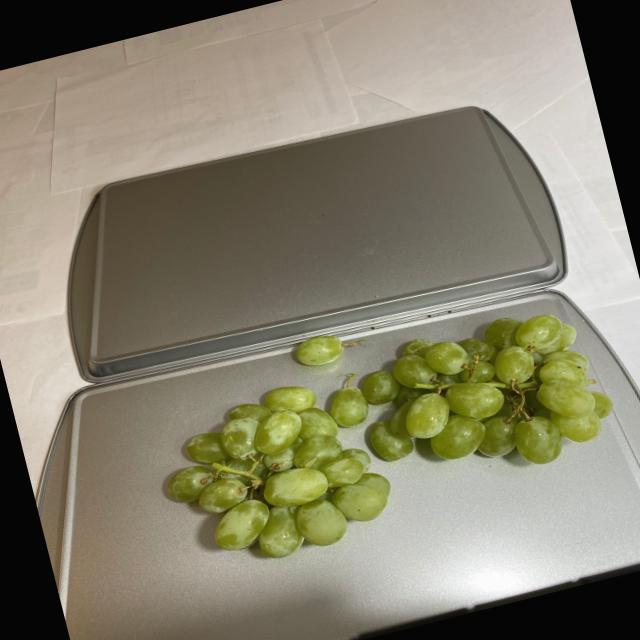grapes: (137, 276, 627, 586)
